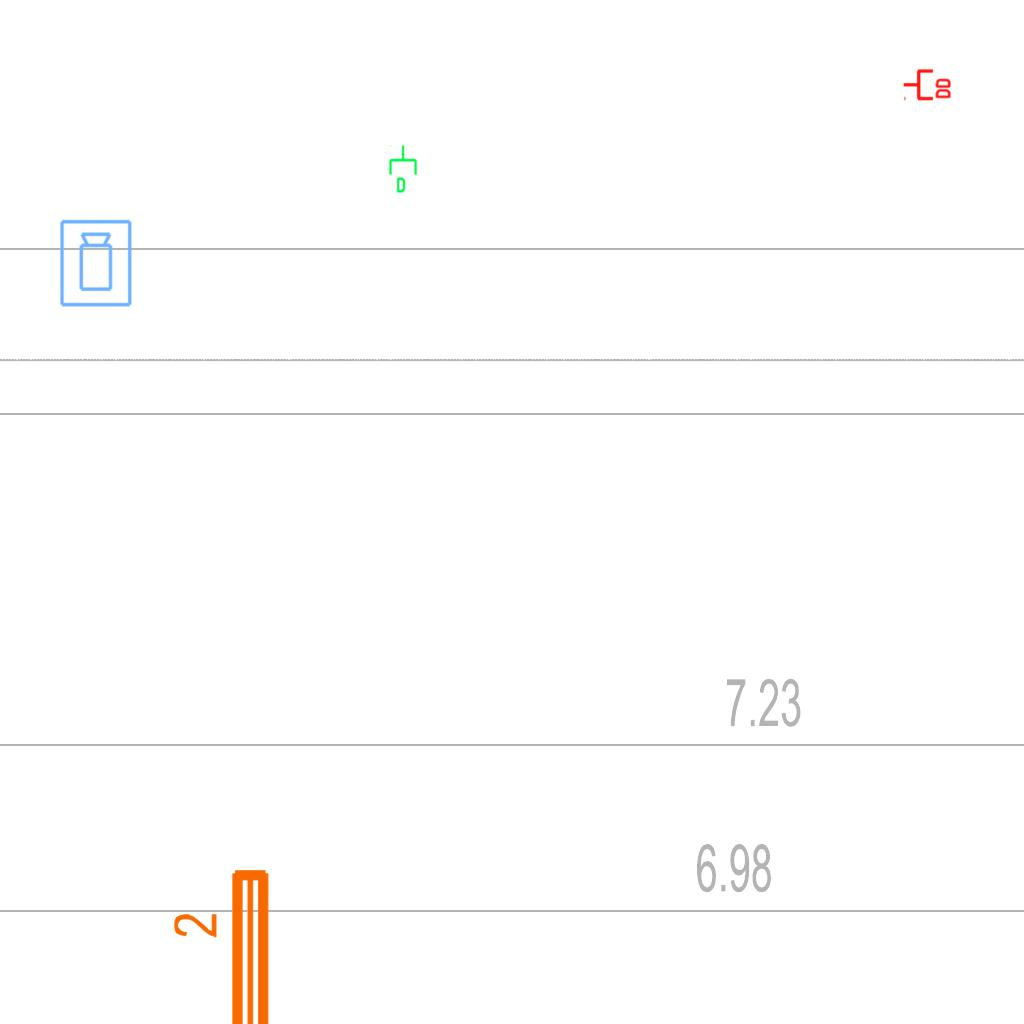Ambulanz_Pendelleuchte_LED: (169, 861, 281, 1024)
Datenanschluss_einfach: (387, 144, 421, 194)
Datenanschluss_zweifach: (902, 67, 953, 101)
KFO_Kamera_mit_Festobjektiv: (58, 218, 135, 309)
